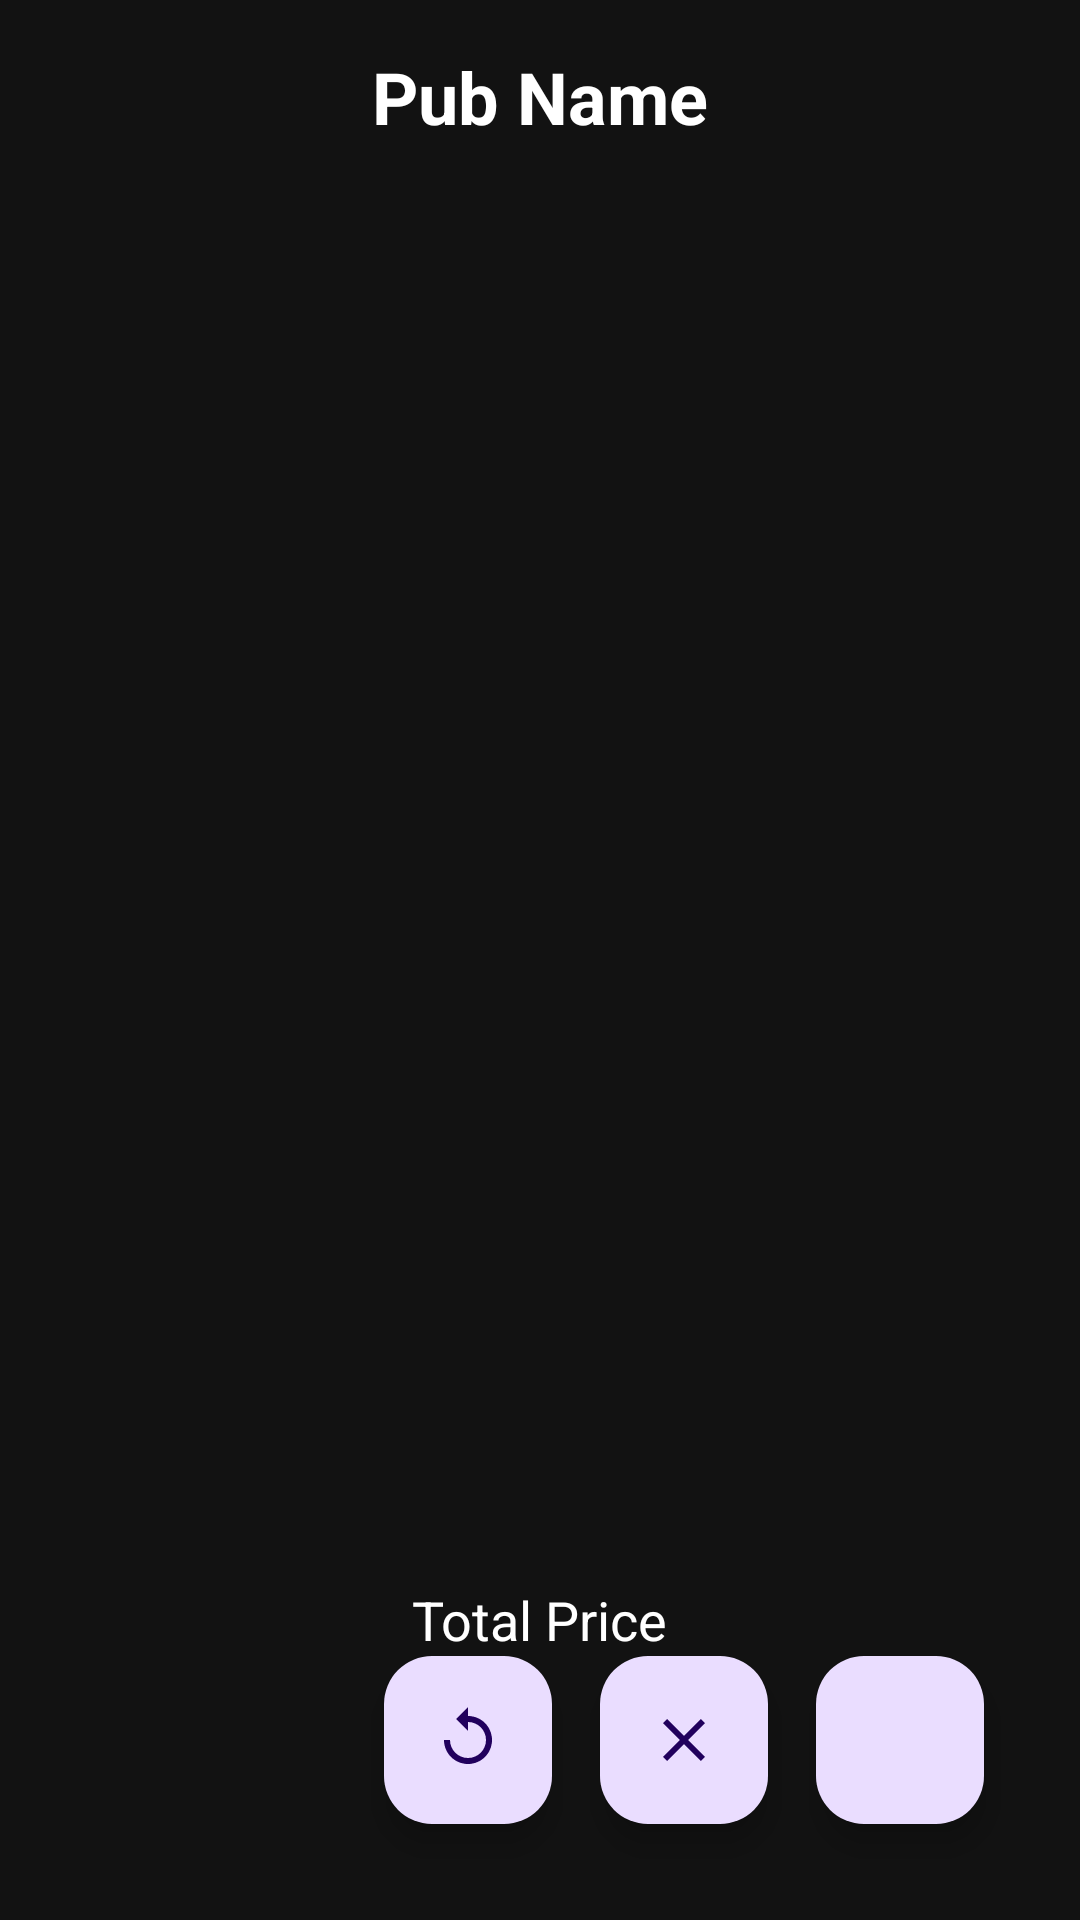

Icon bounding boxes for this 1080*1920 phone screenshot, format (x1, y1, x2, y2):
Clear Items: (600, 1656, 768, 1824)
Reset Quantities: (384, 1656, 552, 1824)
